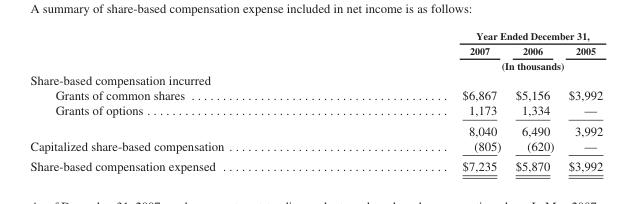table: (29, 29, 602, 172)
table column: (29, 29, 342, 172), (342, 29, 507, 172), (507, 29, 560, 172), (560, 29, 602, 172)
table column header: (29, 29, 602, 72)
table projected row header: (29, 72, 602, 87)
table row: (29, 102, 602, 120), (29, 137, 602, 155), (29, 120, 602, 137), (29, 155, 602, 172), (29, 42, 602, 57), (29, 57, 602, 72), (29, 72, 602, 87), (29, 87, 602, 102), (29, 29, 602, 42)
table spanning cell: (342, 57, 602, 72), (342, 29, 602, 42)
